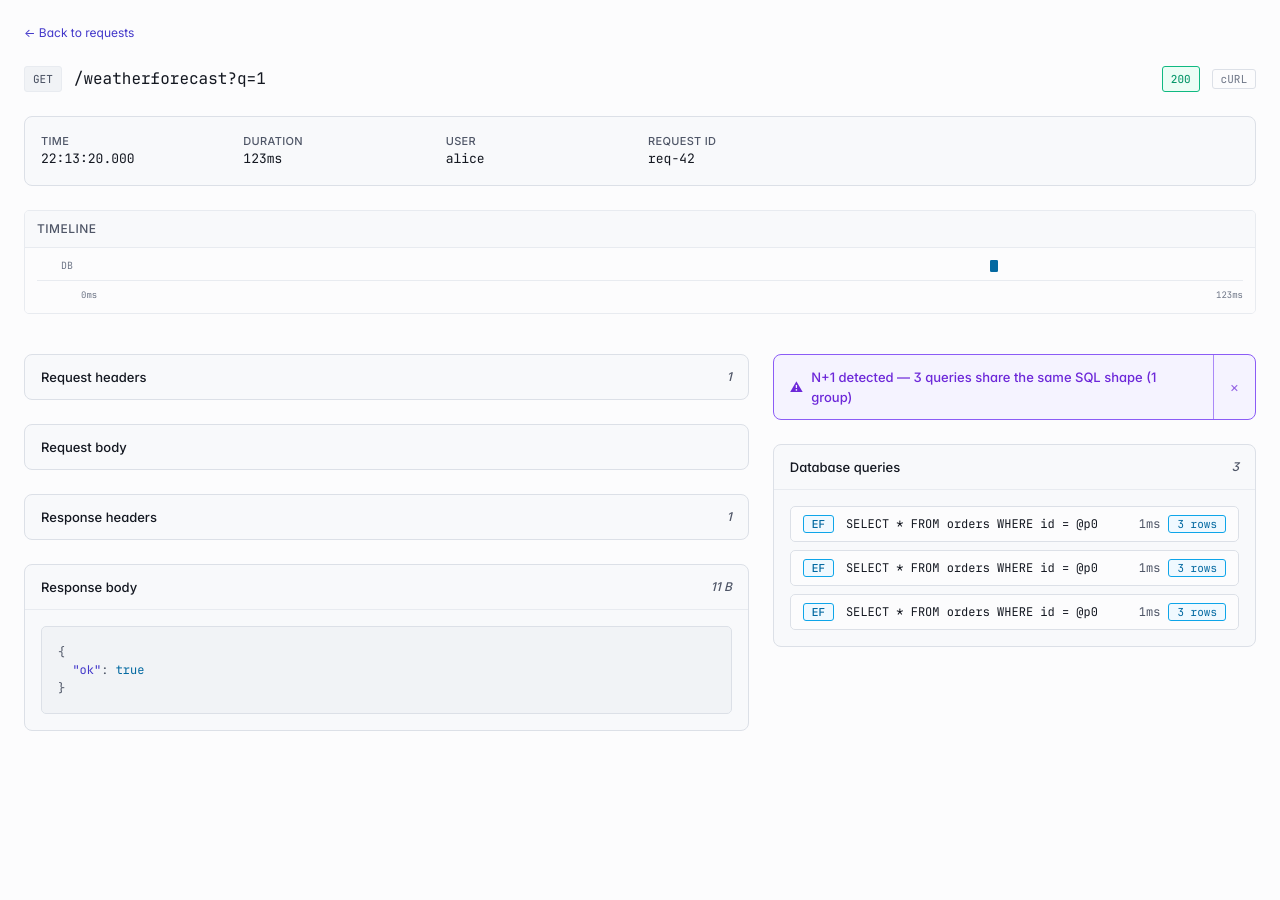
Scenario: RequestDetail — N+1 banner › dismisses banner when dismiss button is clicked
Check: the message "⚠ N+1 detected — 3 queries share the same SQL shape (1 group) ×" is shown, box [773,354,1256,420]
Click the button named "Dismiss N+1 warning" at (1234, 387), box [1213,355,1255,419]
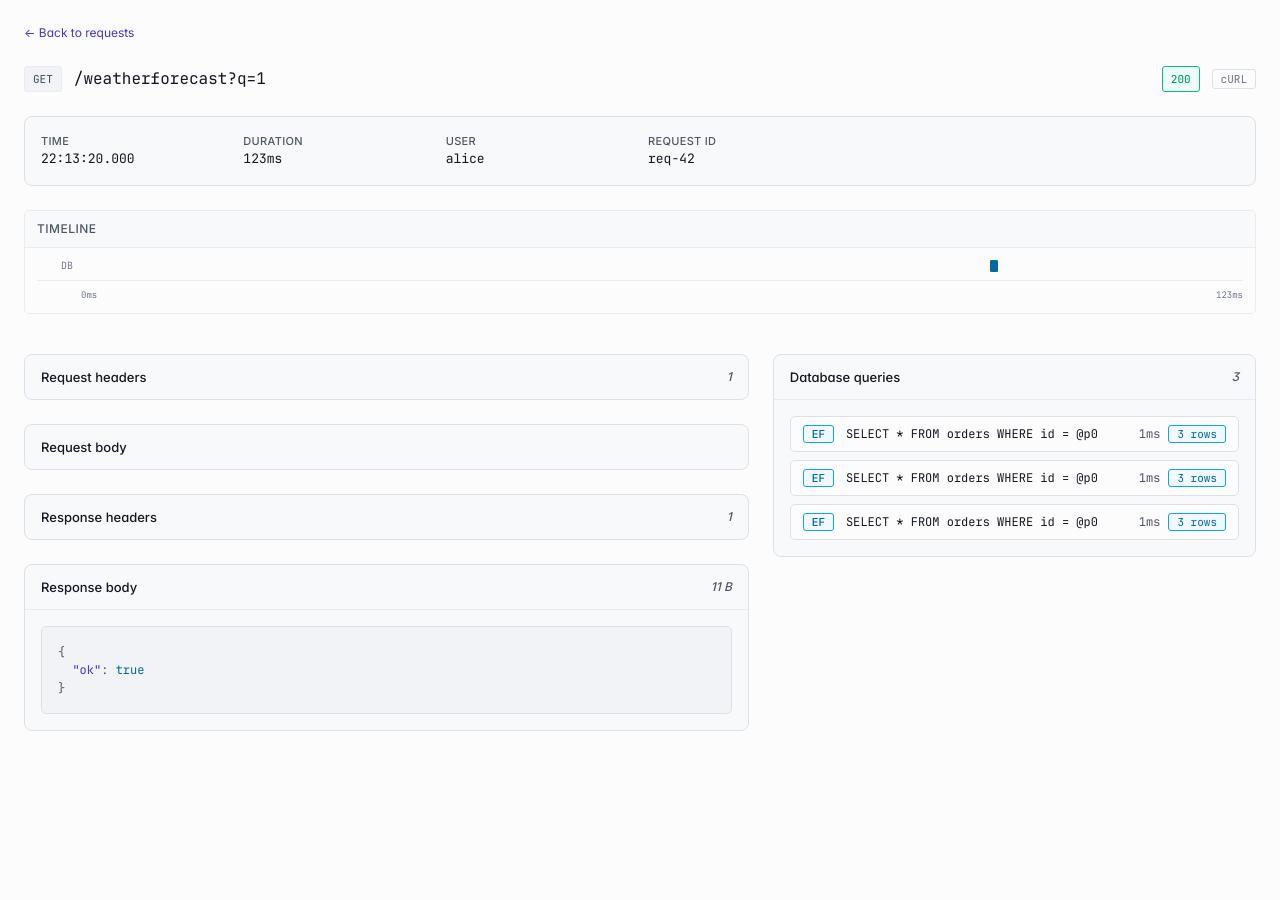
Check: the message with test id "n1-banner" is gone
